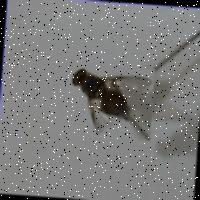Oriental-fruit-fly: (62, 61, 155, 140)
